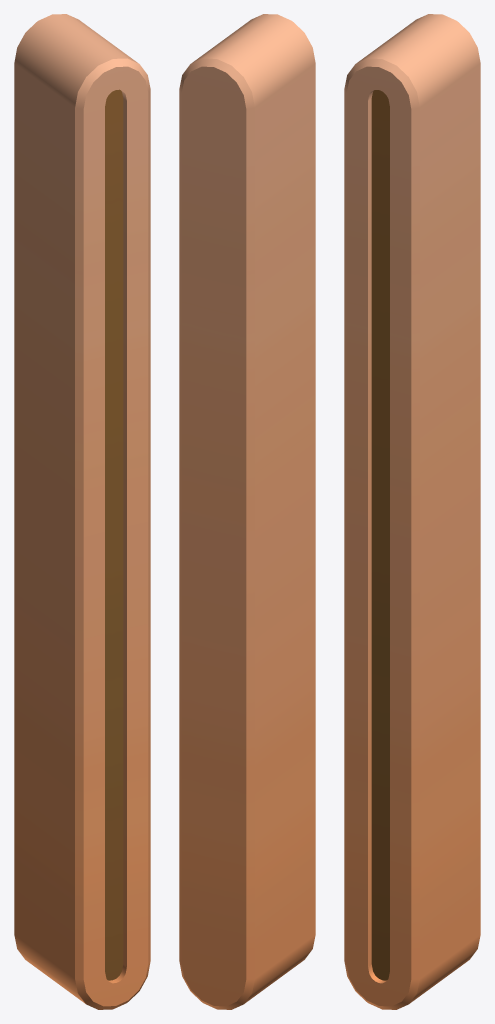
Rendered from Elevator_01.glb.
3 views of the same model, side by side, from view 1: azimuth 30°, elevation 25°; view 2: azimuth 150°, elevation 25°; view 3: azimuth 330°, elevation 25° (orthographic).
Parts seen in each view (by area): view 1: Elevator_01; view 2: Elevator_01; view 3: Elevator_01.
Part boxes in pixels (x1=…): Elevator_01: x1=14, y1=14, x2=150, y2=1009; Elevator_01: x1=179, y1=14, x2=315, y2=1009; Elevator_01: x1=344, y1=14, x2=480, y2=1009.
Size of the model in its own units: 0.8326 by 10 by 1.28.
Materials: 1 (1 with a texture image).
